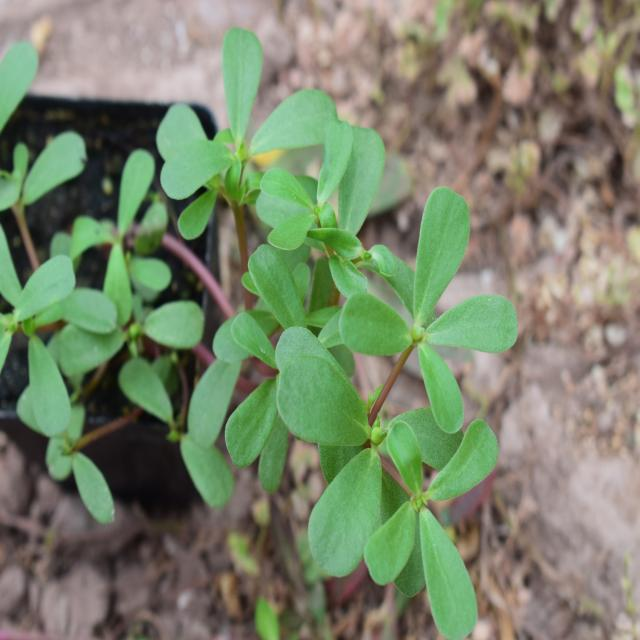purslane: (154, 60, 515, 597), (0, 37, 230, 470)
